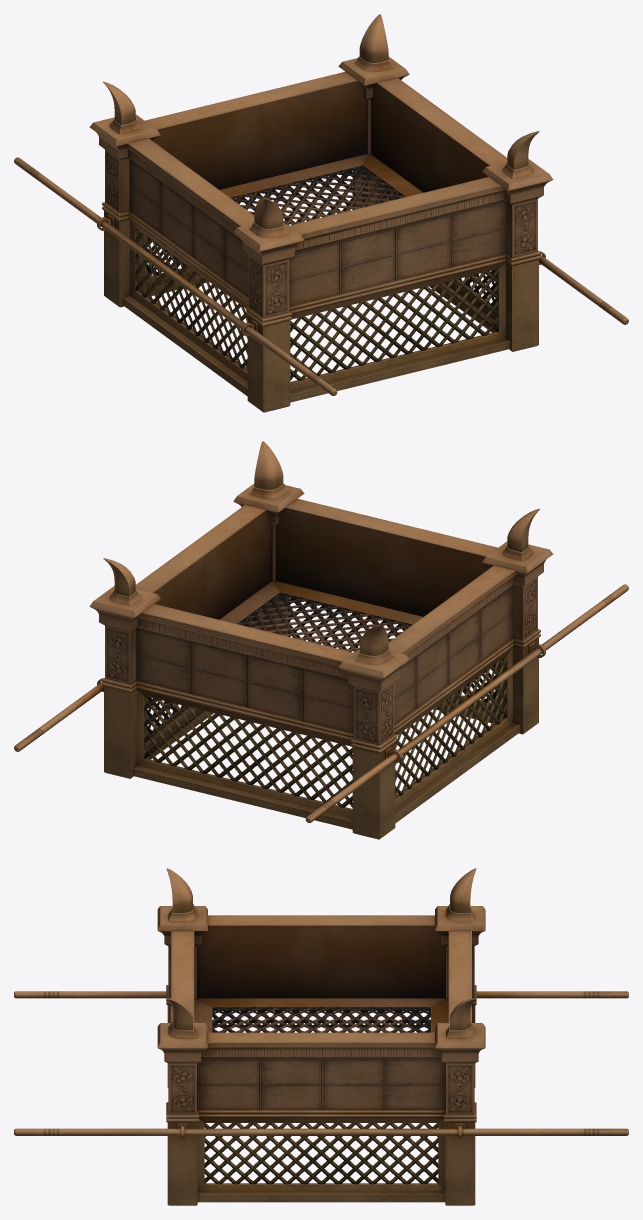
Rendered from SM_AltarBurntOffering.glb.
3 renders of one model, top to bottom at view 1: azimuth 30°, elevation 25°; view 2: azimuth 150°, elevation 25°; view 3: azimuth 270°, elevation 25°, orthographic. The views are drawn at different scales.
Parts seen in each view (by area): view 1: SM_AltarBurntOffering; view 2: SM_AltarBurntOffering; view 3: SM_AltarBurntOffering.
Part boxes in pixels (left/top/right/bottom): SM_AltarBurntOffering: left=14, top=14, right=628, bottom=412; SM_AltarBurntOffering: left=14, top=441, right=628, bottom=839; SM_AltarBurntOffering: left=14, top=868, right=628, bottom=1205.
Bounding box in the file's own units: 2.48 × 1.67 × 4.5.
Materials: 1 (1 with a texture image).
